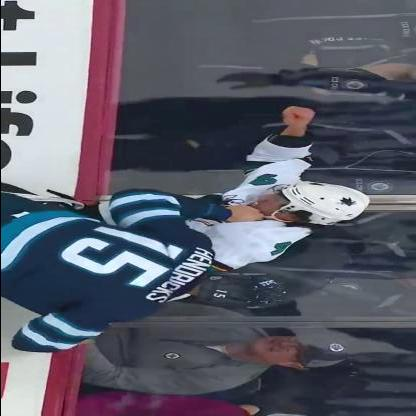voilence: (0, 106, 372, 338)
